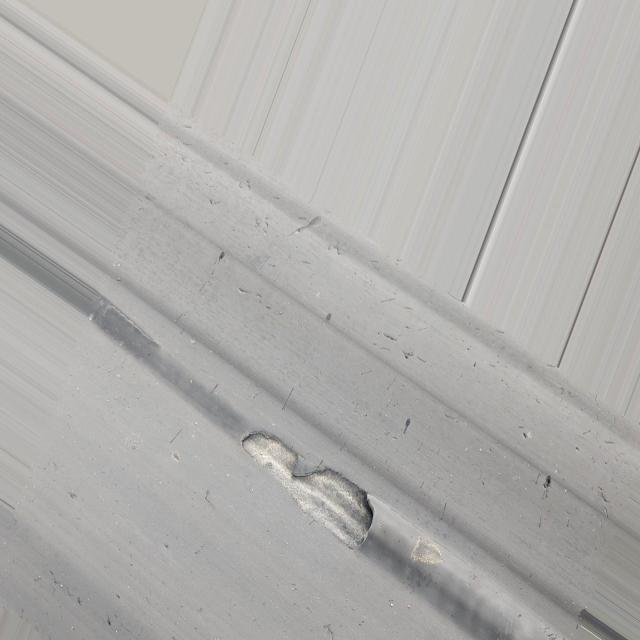Tear: (234, 409, 382, 570)
impact damage: (9, 221, 625, 639)
